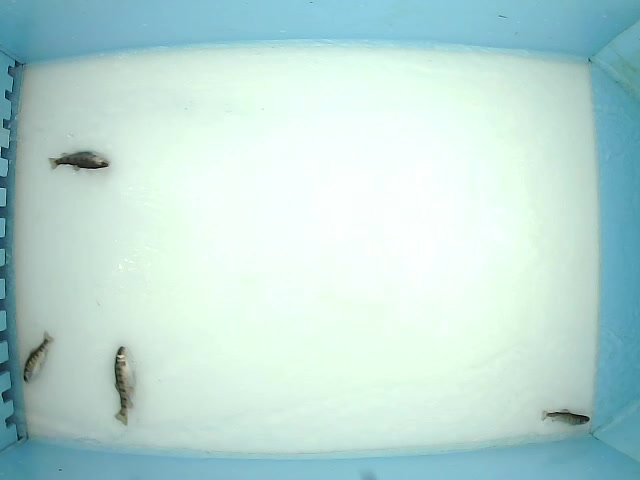fish: (112, 345, 136, 427), (22, 330, 55, 386), (45, 150, 110, 174), (540, 408, 591, 428)
